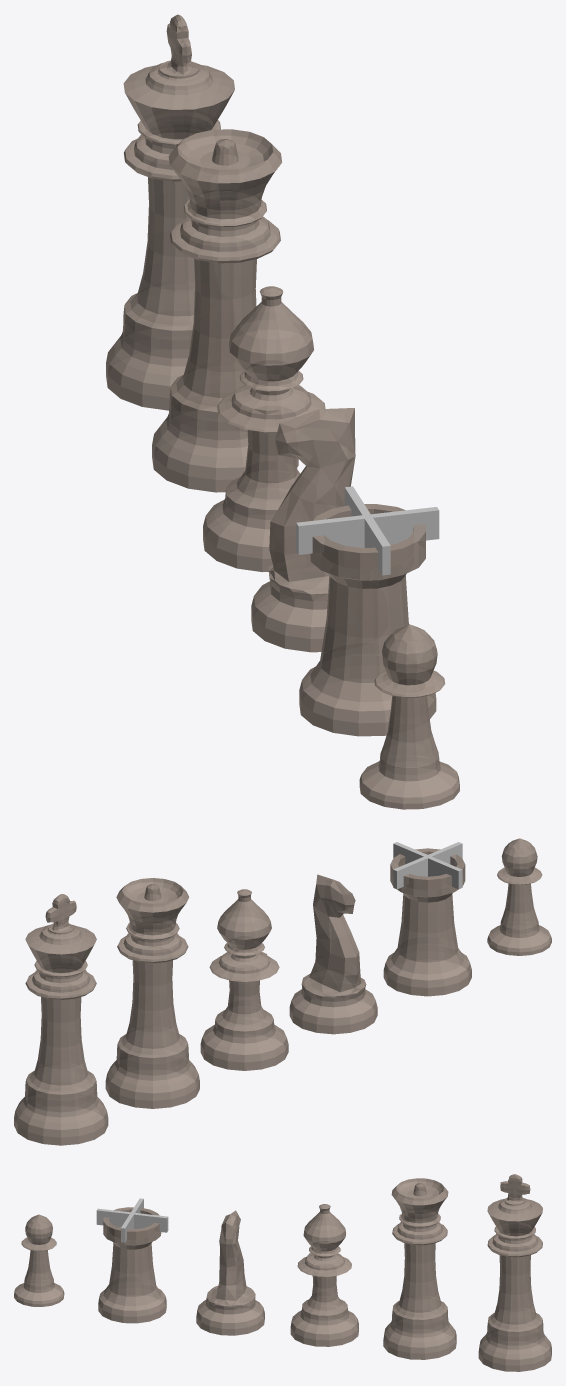
The model's file is chess1.obj.
3 renders of one model, top to bottom at view 1: azimuth 30°, elevation 25°; view 2: azimuth 150°, elevation 25°; view 3: azimuth 270°, elevation 25°, orthographic. The views are drawn at different scales.
Parts seen in each view (by area): view 1: Queen_Circle.002, King_Circle.004, Bishop_Cylinder, Rook_Cylinder.002, Knight_Cylinder.001, Pawn_Circle, Rook_dent_Cube.002; view 2: King_Circle.004, Queen_Circle.002, Bishop_Cylinder, Rook_Cylinder.002, Knight_Cylinder.001, Pawn_Circle, Rook_dent_Cube.002; view 3: King_Circle.004, Queen_Circle.002, Bishop_Cylinder, Rook_Cylinder.002, Knight_Cylinder.001, Pawn_Circle, Rook_dent_Cube.002.
Part boxes in pixels (left/top/right/bottom): Queen_Circle.002: left=152, top=129, right=298, bottom=492; King_Circle.004: left=106, top=14, right=234, bottom=410; Bishop_Cylinder: left=203, top=286, right=325, bottom=572; Rook_Cylinder.002: left=299, top=504, right=436, bottom=736; Knight_Cylinder.001: left=251, top=408, right=355, bottom=652; Pawn_Circle: left=359, top=624, right=459, bottom=809; Rook_dent_Cube.002: left=296, top=486, right=439, bottom=575; King_Circle.004: left=14, top=894, right=108, bottom=1145; Queen_Circle.002: left=105, top=878, right=199, bottom=1108; Bishop_Cylinder: left=200, top=889, right=288, bottom=1070; Rook_Cylinder.002: left=383, top=848, right=471, bottom=996; Knight_Cylinder.001: left=289, top=874, right=377, bottom=1034; Pawn_Circle: left=487, top=838, right=551, bottom=955; Rook_dent_Cube.002: left=393, top=842, right=462, bottom=889; King_Circle.004: left=478, top=1174, right=551, bottom=1371; Queen_Circle.002: left=383, top=1178, right=456, bottom=1359; Bishop_Cylinder: left=290, top=1204, right=358, bottom=1346; Rook_Cylinder.002: left=98, top=1207, right=166, bottom=1323; Knight_Cylinder.001: left=196, top=1210, right=264, bottom=1335; Pawn_Circle: left=14, top=1214, right=64, bottom=1306; Rook_dent_Cube.002: left=96, top=1198, right=168, bottom=1242.
Size of what is drawn, in the model's own units: 8.2 by 8.1 by 21.66.
